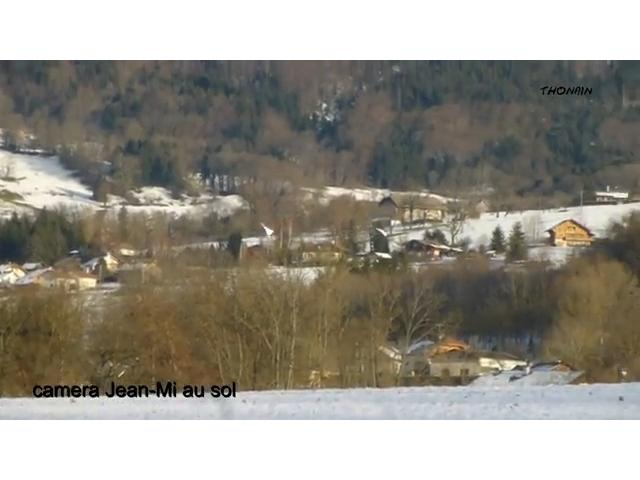Anti-Drone: (250, 217, 278, 239)
